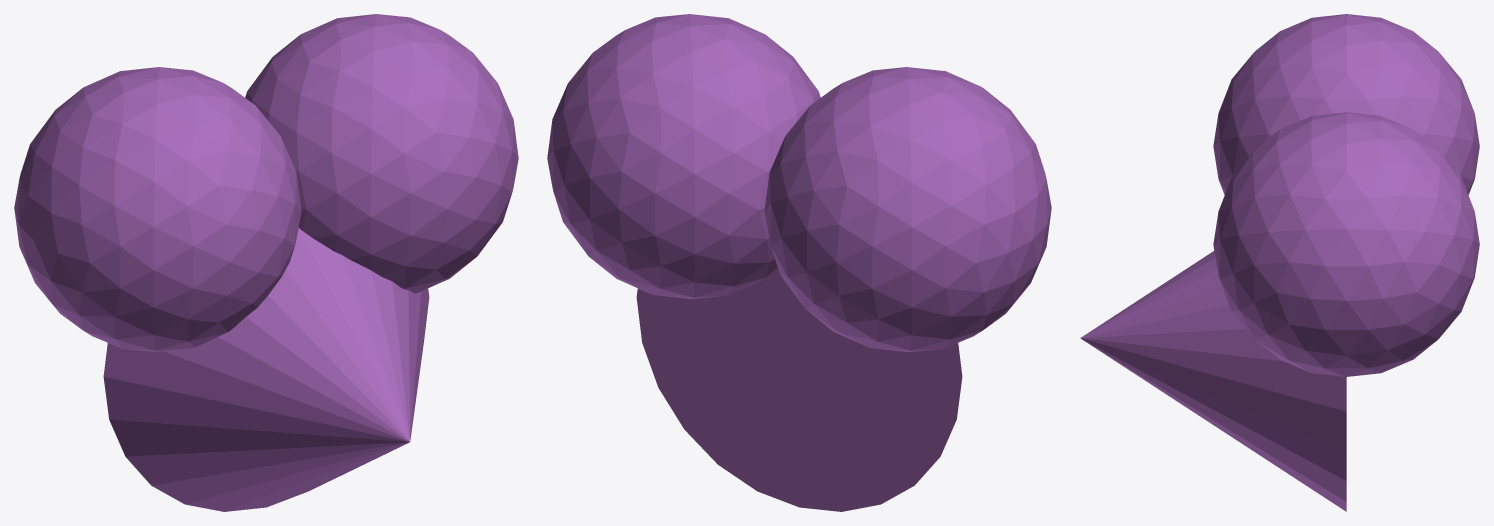
File: love_003.glb
3 views of the same model, side by side, from view 1: azimuth 30°, elevation 25°; view 2: azimuth 150°, elevation 25°; view 3: azimuth 270°, elevation 25° (orthographic). The views are drawn at different scales.
Visible parts, largest first — view 1: world; view 2: world; view 3: world.
Boxes of the visible parts, <box> form: world: <box>14,14,518,511</box>; world: <box>547,14,1051,511</box>; world: <box>1080,14,1479,511</box>.
Size of the model in its own units: 2.06 by 1.92 by 1.65.
